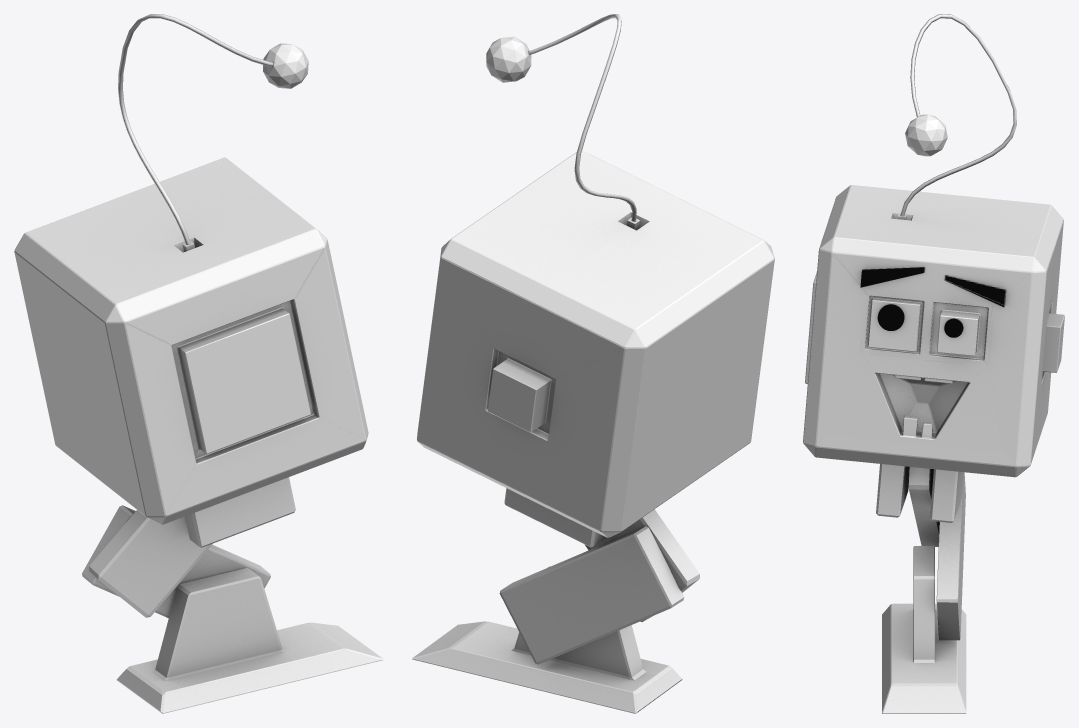
The model's file is roboquick.glb.
The picture shows the model from 3 angles, left to right: view 1: azimuth 30°, elevation 25°; view 2: azimuth 150°, elevation 25°; view 3: azimuth 270°, elevation 25°; orthographic projection. The views are drawn at different scales.
Parts seen in each view (by area): view 1: Cube; view 2: Cube; view 3: Cube.
Boxes of the visible parts, box(x1,y1,x2,y2) form: Cube: box(14, 14, 383, 713); Cube: box(412, 14, 774, 713); Cube: box(803, 14, 1064, 713).
Size of the model in its own units: 1.37 by 2.95 by 1.14.
2 materials, 1 textured.
